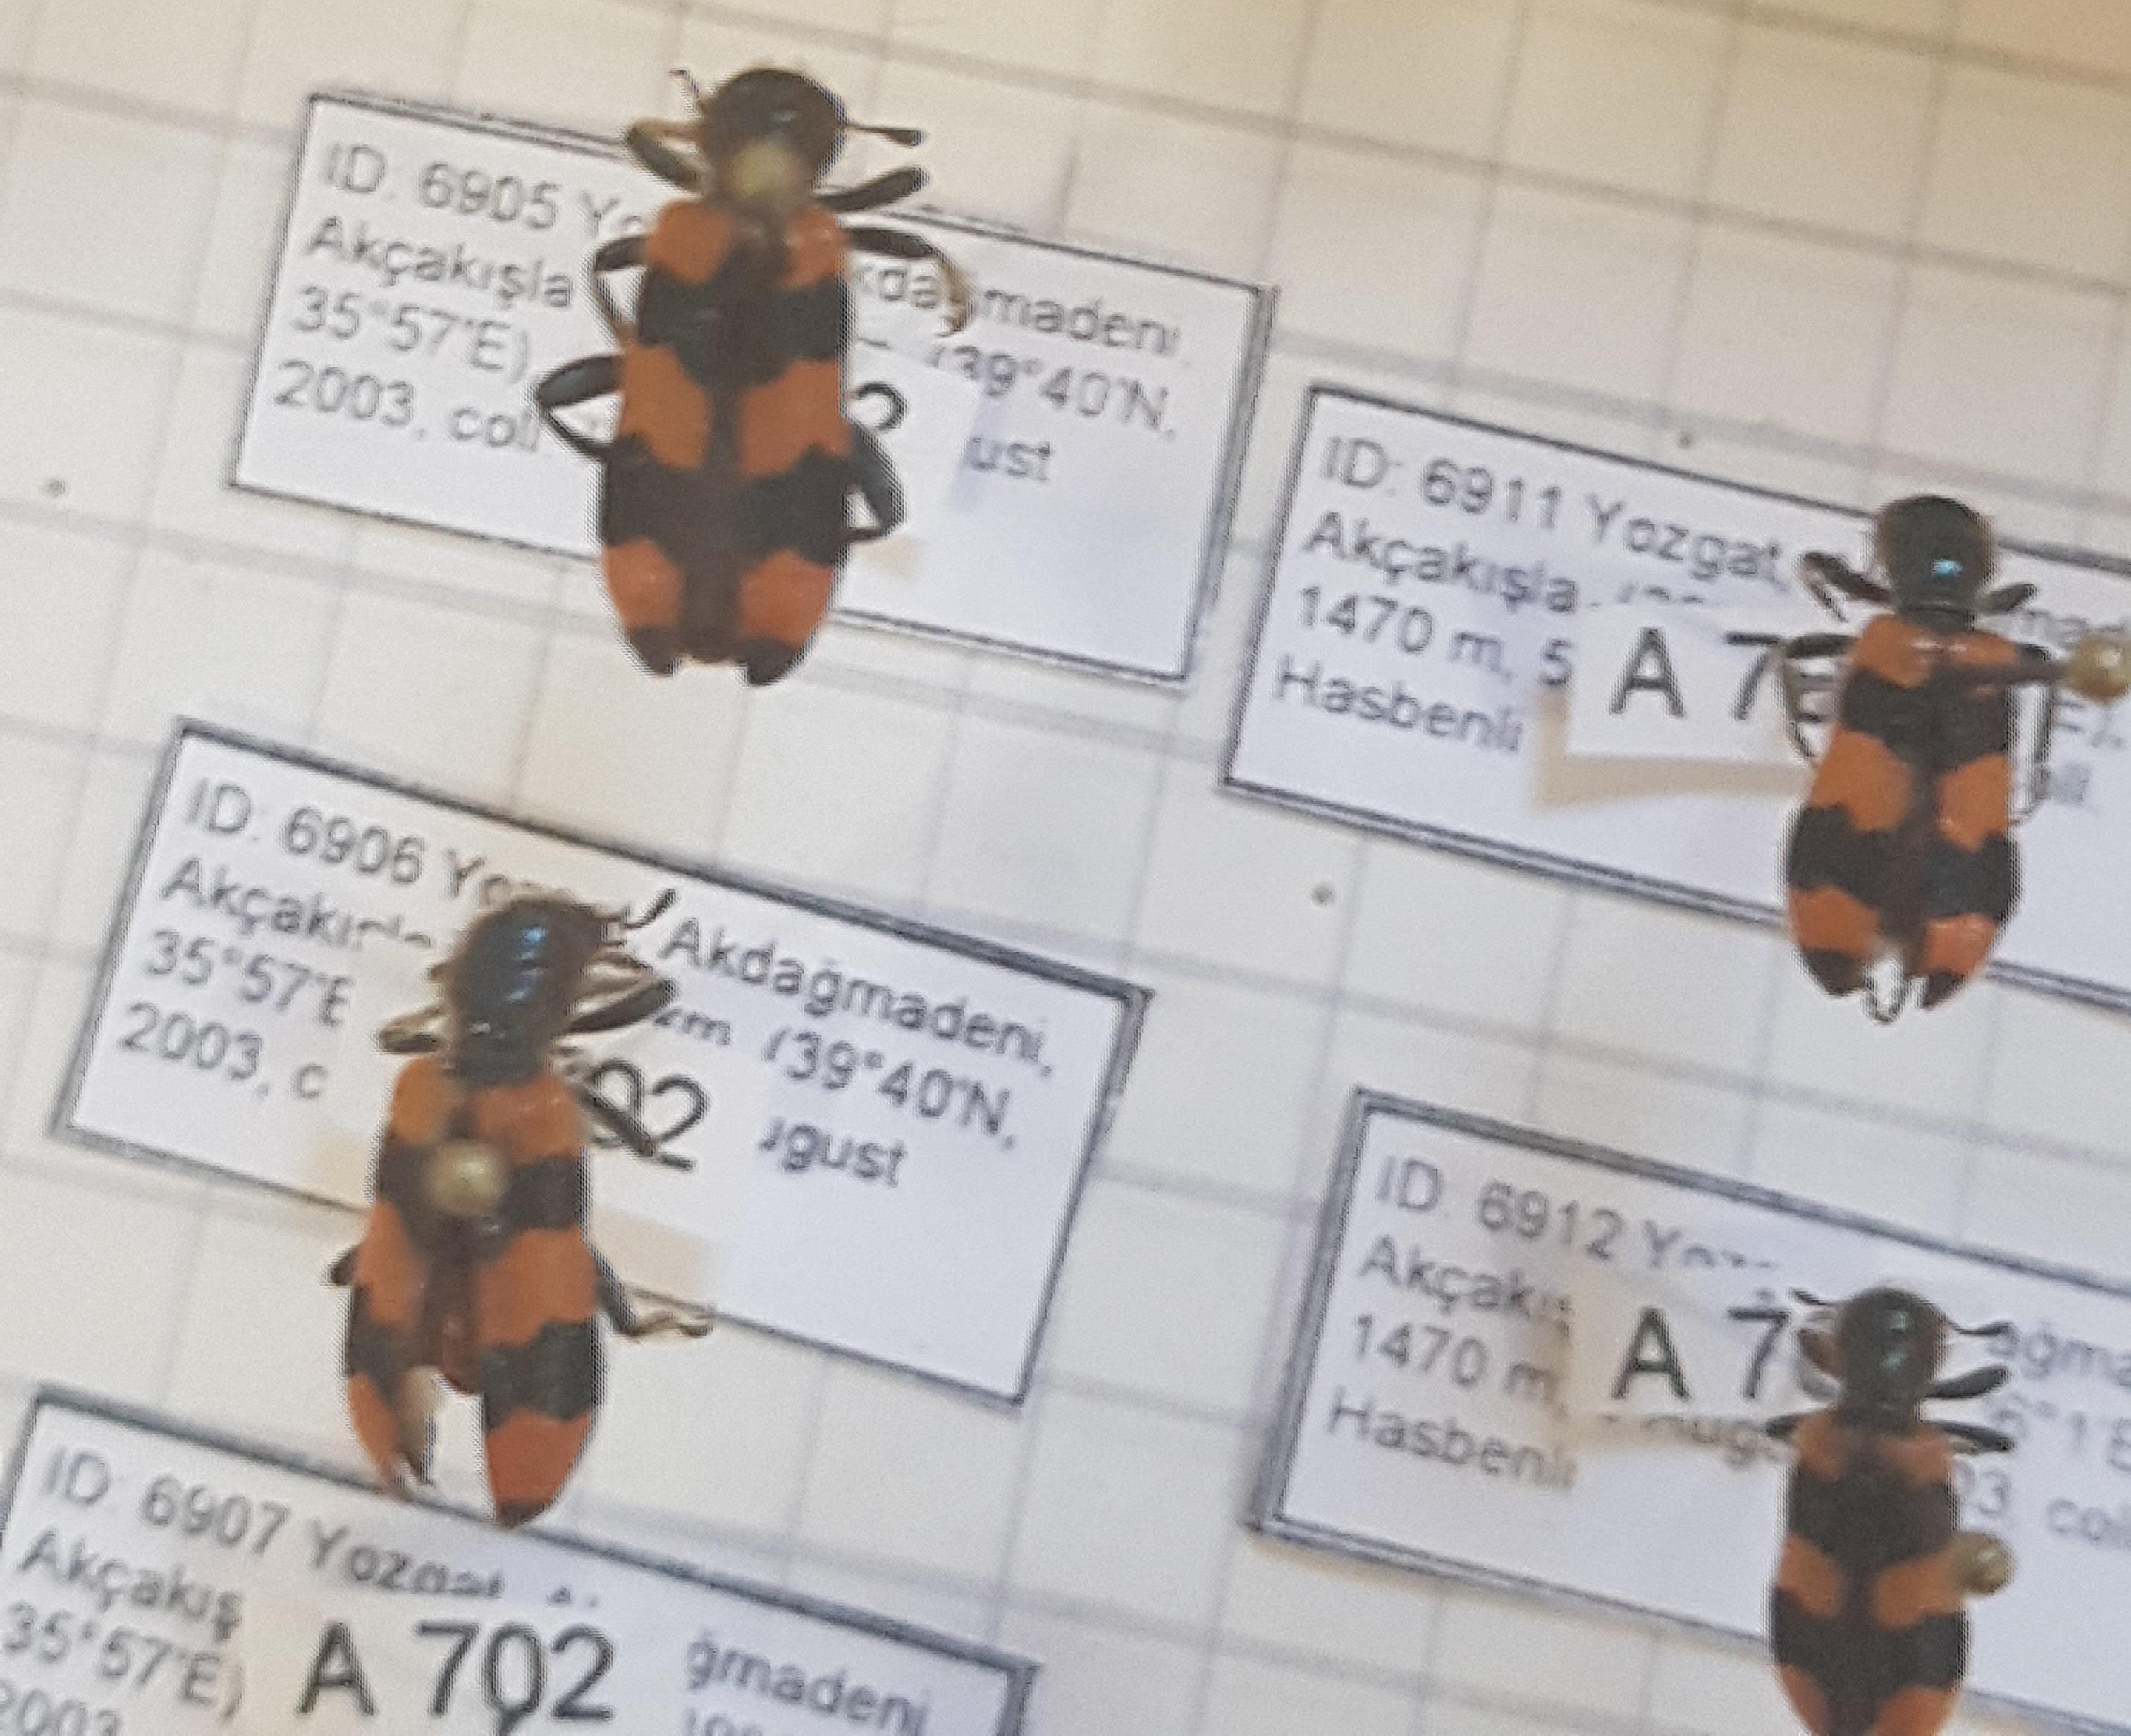trichodes_apiarius: (527, 39, 979, 704), (342, 883, 713, 1511), (1788, 478, 2071, 1033), (1758, 1272, 2076, 1736)
